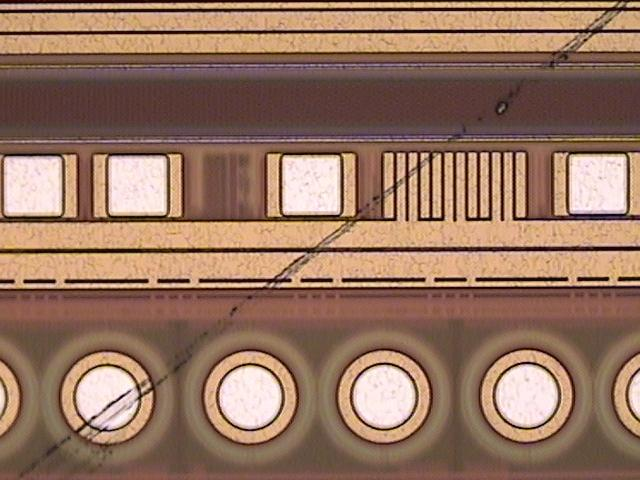SCRATCH: (28, 1, 635, 480)
